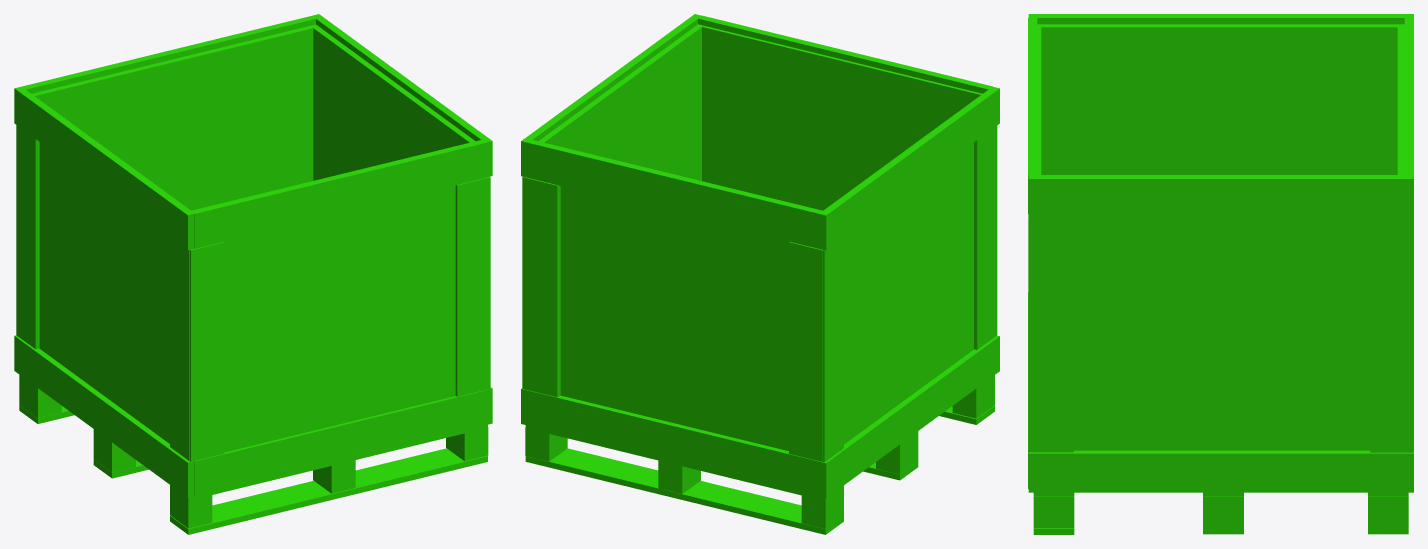
File: Woodbox_04_Lod0.fbx
3 renders of one model, left to right at view 1: azimuth 30°, elevation 25°; view 2: azimuth 150°, elevation 25°; view 3: azimuth 270°, elevation 25°, orthographic. The views are drawn at different scales.
Parts seen in each view (by area): view 1: Woodbox_04_Lod0; view 2: Woodbox_04_Lod0; view 3: Woodbox_04_Lod0.
Part boxes in pixels (bbox=[...]): Woodbox_04_Lod0: bbox=[14, 14, 492, 534]; Woodbox_04_Lod0: bbox=[521, 14, 999, 534]; Woodbox_04_Lod0: bbox=[1028, 14, 1413, 534].
Size of the model in its own units: 143 by 144 by 141.
